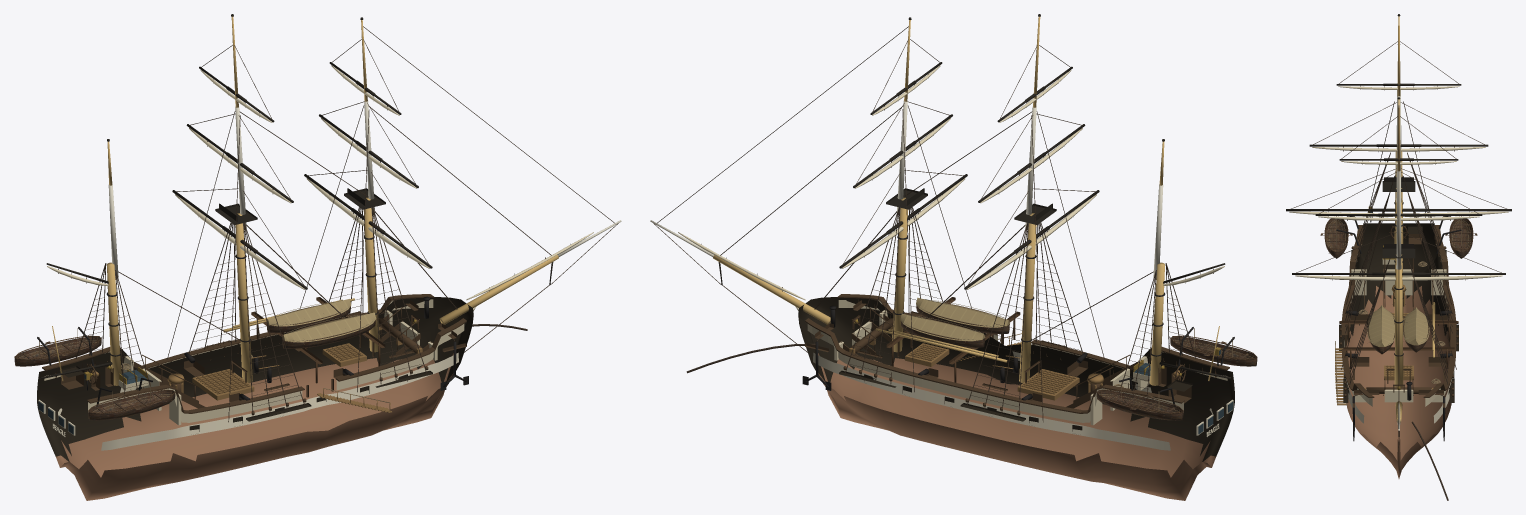
File: hms-beagle-deck.glb
The picture shows the model from 3 angles, left to right: view 1: azimuth 30°, elevation 25°; view 2: azimuth 150°, elevation 25°; view 3: azimuth 270°, elevation 25°; orthographic projection. The views are drawn at different scales.
Visible parts, largest first — view 1: BeagleHull, Beagle_RopeTar, Beagle_CapRail, Beagle_SparBuff, Beagle_BoatWood, Beagle_SparBlack, Beagle_BulwarkInner, Beagle_BandWhite, Beagle_Canvas, Beagle_BoatCanvas, Beagle_DeckTrim, Beagle_SparWhite (+4 smaller); view 2: BeagleHull, Beagle_RopeTar, Beagle_CapRail, Beagle_SparBuff, Beagle_BulwarkInner, Beagle_SparBlack, Beagle_BoatWood, Beagle_BandWhite, Beagle_Canvas, Beagle_BoatCanvas, Beagle_SparWhite, Beagle_DeckTrim (+4 smaller); view 3: BeagleHull, Beagle_RopeTar, Beagle_CapRail, Beagle_SparBlack, Beagle_Canvas, Beagle_SparBuff, Beagle_BoatWood, Beagle_BulwarkInner, Beagle_BoatCanvas, Beagle_BoatWoodDark, Beagle_DeckTrim, Beagle_IronBlack (+4 smaller).
Boxes of the visible parts, bbox=[...] form: BeagleHull: bbox=[37, 297, 473, 500]; Beagle_RopeTar: bbox=[58, 26, 618, 422]; Beagle_CapRail: bbox=[42, 294, 466, 414]; Beagle_SparBuff: bbox=[52, 16, 558, 385]; Beagle_BoatWood: bbox=[14, 306, 375, 420]; Beagle_SparBlack: bbox=[40, 14, 553, 379]; Beagle_BulwarkInner: bbox=[44, 299, 464, 425]; Beagle_BandWhite: bbox=[38, 306, 476, 450]; Beagle_Canvas: bbox=[47, 65, 593, 300]; Beagle_BoatCanvas: bbox=[266, 299, 376, 342]; Beagle_DeckTrim: bbox=[92, 318, 422, 412]; Beagle_SparWhite: bbox=[108, 101, 621, 278]; BeagleHull: bbox=[798, 297, 1234, 500]; Beagle_RopeTar: bbox=[653, 26, 1213, 422]; Beagle_CapRail: bbox=[805, 294, 1229, 414]; Beagle_SparBuff: bbox=[713, 16, 1219, 385]; Beagle_BulwarkInner: bbox=[807, 300, 1227, 425]; Beagle_SparBlack: bbox=[718, 14, 1231, 379]; Beagle_BoatWood: bbox=[901, 305, 1257, 420]; Beagle_BandWhite: bbox=[795, 306, 1233, 450]; Beagle_Canvas: bbox=[678, 65, 1224, 300]; Beagle_BoatCanvas: bbox=[900, 297, 1009, 341]; Beagle_SparWhite: bbox=[650, 101, 1163, 278]; Beagle_DeckTrim: bbox=[849, 327, 1179, 400]; BeagleHull: bbox=[1343, 223, 1454, 478]; Beagle_RopeTar: bbox=[1290, 41, 1507, 500]; Beagle_CapRail: bbox=[1339, 225, 1458, 407]; Beagle_SparBlack: bbox=[1286, 14, 1511, 436]; Beagle_Canvas: bbox=[1289, 86, 1508, 422]; Beagle_SparBuff: bbox=[1394, 16, 1435, 422]; Beagle_BoatWood: bbox=[1320, 218, 1477, 354]; Beagle_BulwarkInner: bbox=[1350, 244, 1447, 406]; Beagle_BoatCanvas: bbox=[1367, 305, 1429, 346]; Beagle_BoatWoodDark: bbox=[1324, 216, 1473, 368]; Beagle_DeckTrim: bbox=[1335, 284, 1433, 405]; Beagle_IronBlack: bbox=[1336, 175, 1461, 441].
Size of the model in its own units: 38.22 by 28.5 by 15.2.
Materials: 20 (2 with a texture image).
